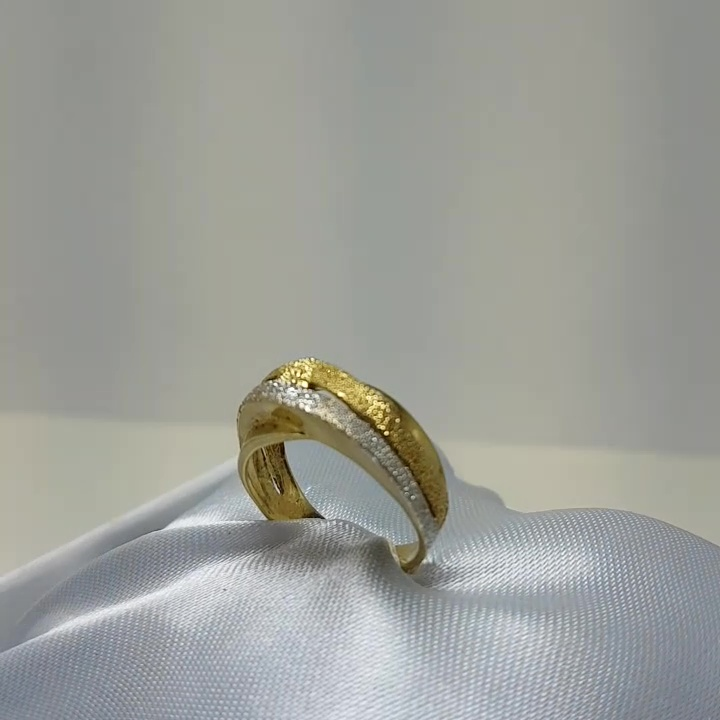Ring 5: (218, 355, 462, 573)
